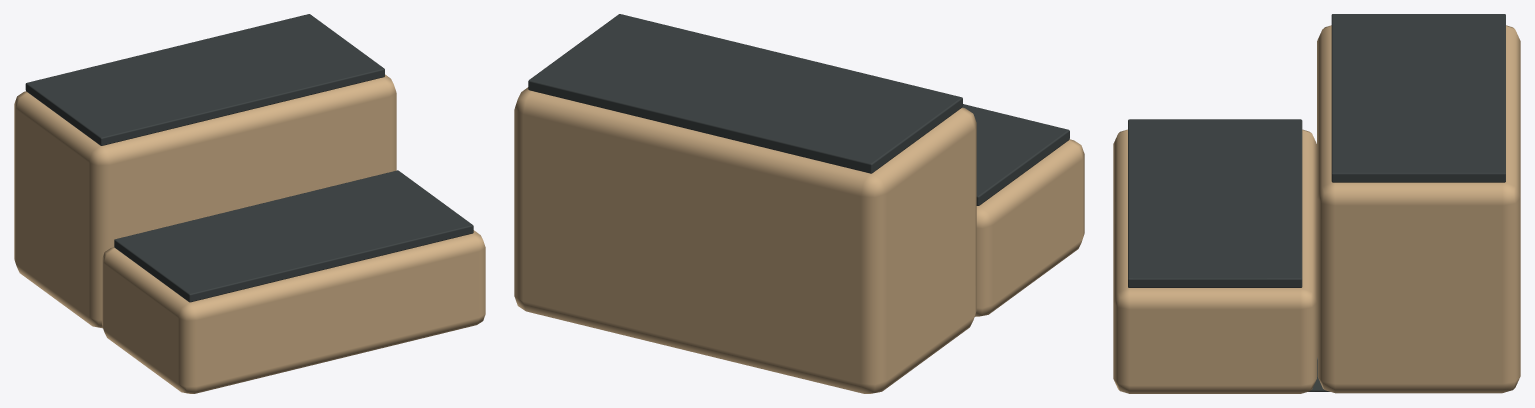
The model's file is public-library-and-reading-garden-public-library-and-r-dba44715__30918.glb.
The picture shows the model from 3 angles, left to right: view 1: azimuth 30°, elevation 25°; view 2: azimuth 150°, elevation 25°; view 3: azimuth 270°, elevation 25°; orthographic projection. The views are drawn at different scales.
Visible parts, largest first — view 1: public-library-and-reading-garden-step-stool; view 2: public-library-and-reading-garden-step-stool; view 3: public-library-and-reading-garden-step-stool.
Part boxes in pixels (x1,y1,x2,y2): public-library-and-reading-garden-step-stool: [14, 14, 485, 393]; public-library-and-reading-garden-step-stool: [514, 14, 1084, 393]; public-library-and-reading-garden-step-stool: [1113, 14, 1520, 393].
Bounding box in the file's own units: 0.56 × 0.335 × 0.56.
